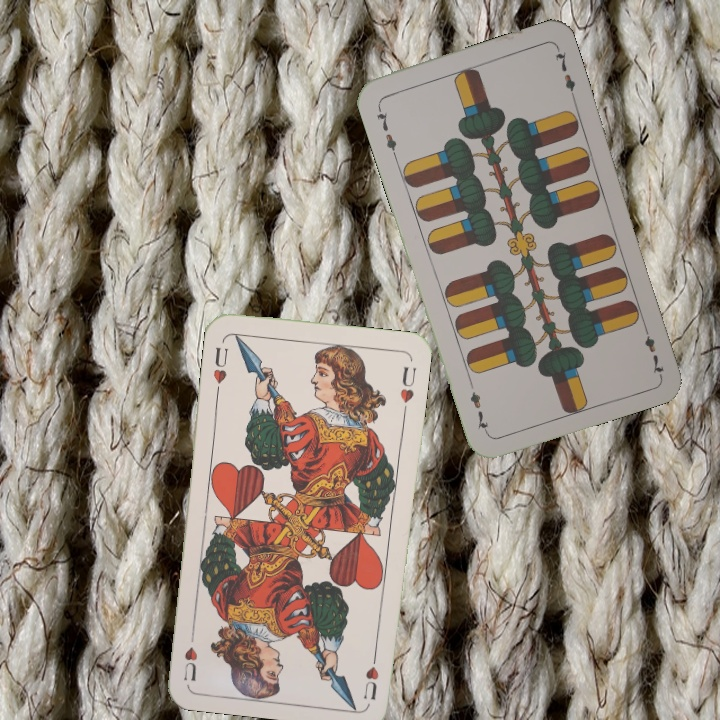E7: (372, 101, 399, 159), (639, 320, 666, 377)
HU: (359, 644, 381, 703), (209, 342, 231, 386)
